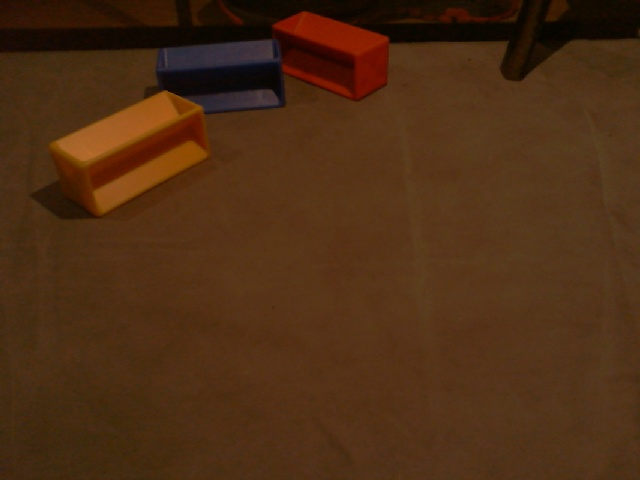BlueSample: (155, 38, 286, 115)
RedSample: (271, 12, 391, 102)
YellowSample: (46, 86, 208, 218)
